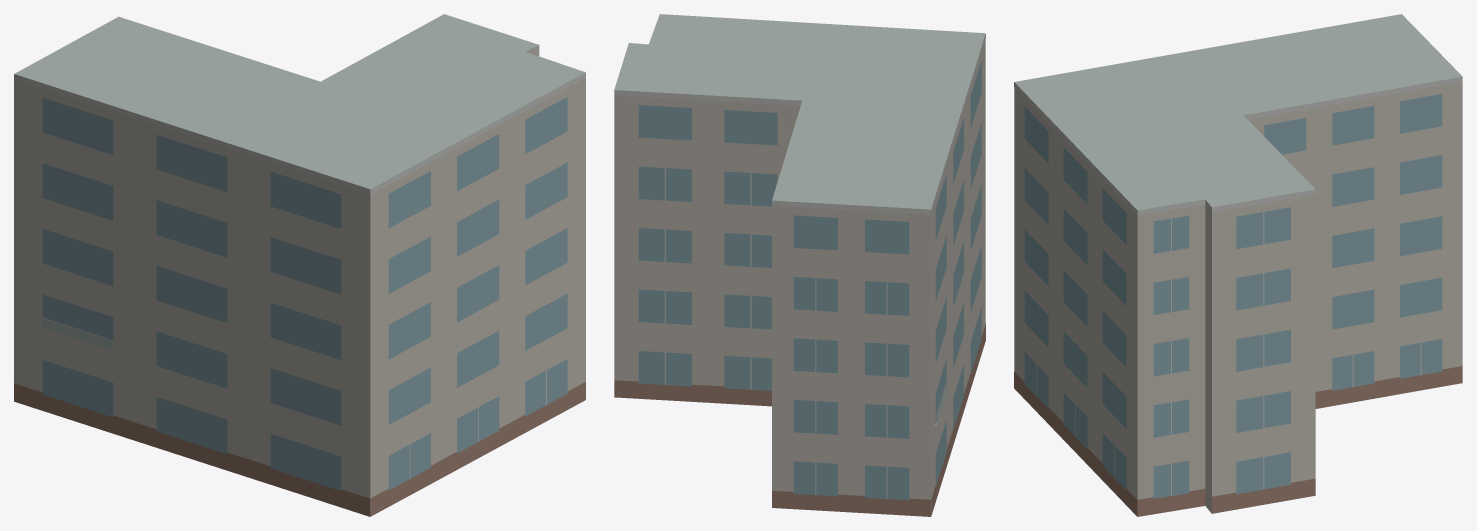
The model's file is survey-upis-32718210.glb.
The picture shows the model from 3 angles, left to right: view 1: azimuth 30°, elevation 25°; view 2: azimuth 150°, elevation 25°; view 3: azimuth 270°, elevation 25°; orthographic projection. The views are drawn at different scales.
Visible parts, largest first — view 1: survey-upis-32718210.tmp; view 2: survey-upis-32718210.tmp; view 3: survey-upis-32718210.tmp.
Boxes of the visible parts, <box> form: survey-upis-32718210.tmp: <box>14,14,585,516</box>; survey-upis-32718210.tmp: <box>614,14,985,516</box>; survey-upis-32718210.tmp: <box>1014,14,1462,516</box>.
Bounding box in the file's own units: 19.57 × 14.23 × 18.88.
